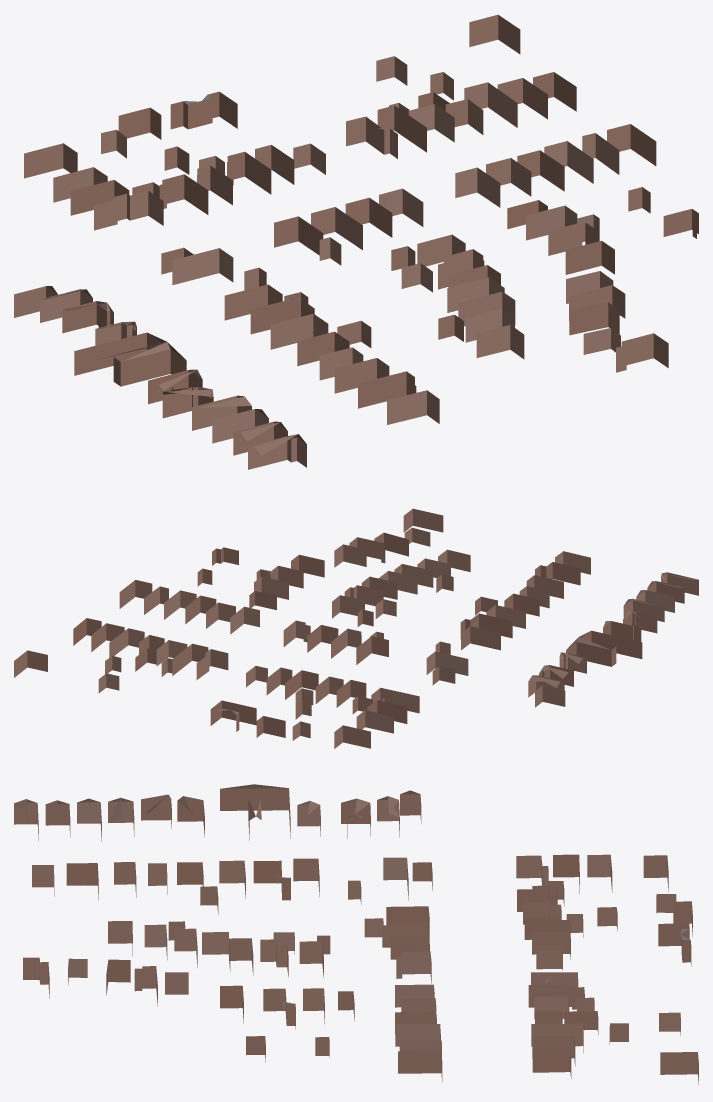
Rendered from c_1636_17823_buildings_residential.glb.
3 views of the same model, one above another, from view 1: azimuth 30°, elevation 25°; view 2: azimuth 150°, elevation 25°; view 3: azimuth 270°, elevation 25° (orthographic). The views are drawn at different scales.
Parts seen in each view (by area): view 1: geometry_0; view 2: geometry_0; view 3: geometry_0.
Part boxes in pixels (x1,y1,x2,y2): geometry_0: (14, 14, 698, 469); geometry_0: (14, 508, 698, 748); geometry_0: (14, 784, 698, 1084).
Bounding box in the file's own units: 260 × 13.1 × 263.
